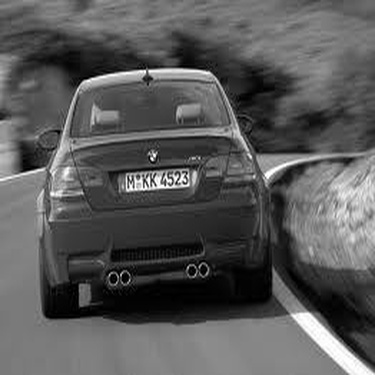car: (11, 51, 285, 327)
